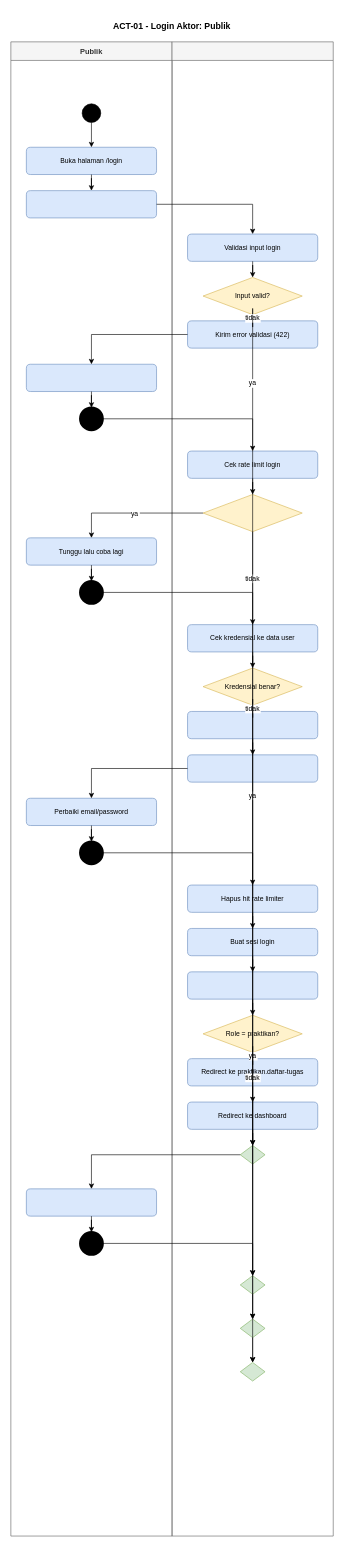
The diagram is 344 pixels wide and 1547 high, and some of its shapes have lost their labels. Each missing label, with the box of its shape:
Kirim pesan auth gagal: (187, 754, 318, 782)
Klik Login: (26, 190, 157, 218)
Lihat error pada field: (26, 364, 157, 392)
Masuk ke halaman tujuan: (26, 1188, 157, 1216)
Melebihi batas percobaan?: (202, 494, 302, 532)
Regenerate session id: (187, 971, 318, 999)
System: (171, 41, 333, 1536)
Tambah hit rate limiter: (187, 711, 318, 739)
